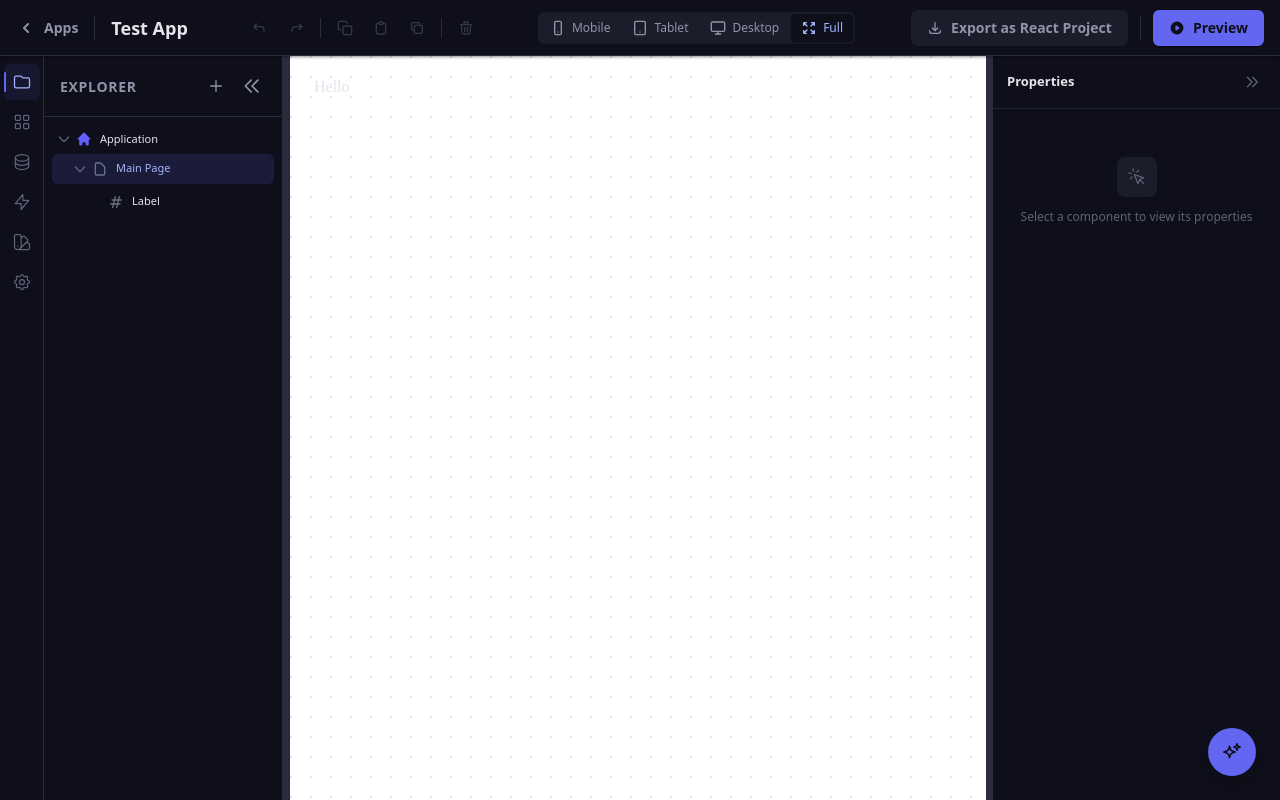
it: Editor › should switch between editor and preview modes
Expected: the heading "Test App" is shown, [111, 14, 188, 42]
Expected: the button named "Components" is shown, [4, 104, 40, 140]
# Switch to preview
What coordinates should you click on to do the following:
click the button "Preview"
I would click on:
 (1208, 28)
Its box is [1153, 10, 1264, 46].
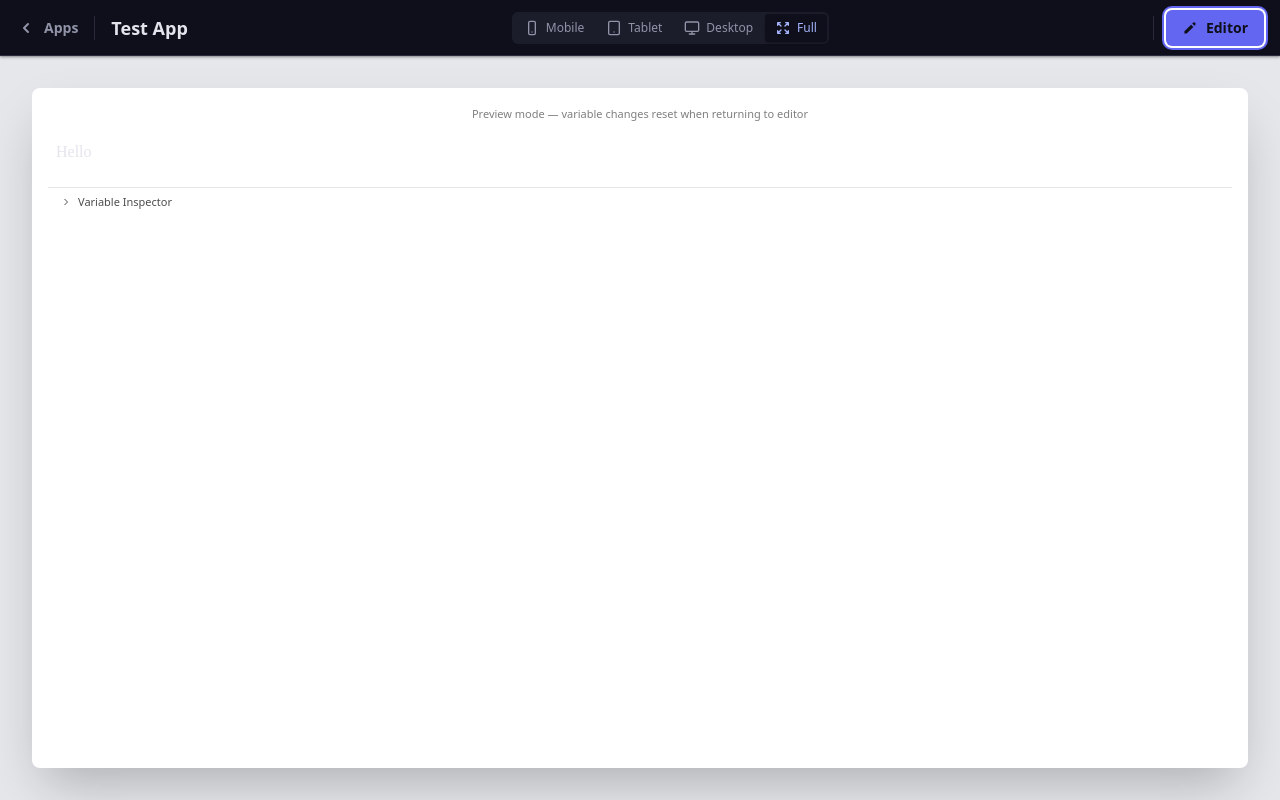
Now the element labelled "Preview" is shown
Now the button "Components" is gone
# Switch back to editor
What coordinates should you click on to do the following:
click the button "Editor"
I would click on:
 (1215, 28)
Its box is [1166, 10, 1264, 46].
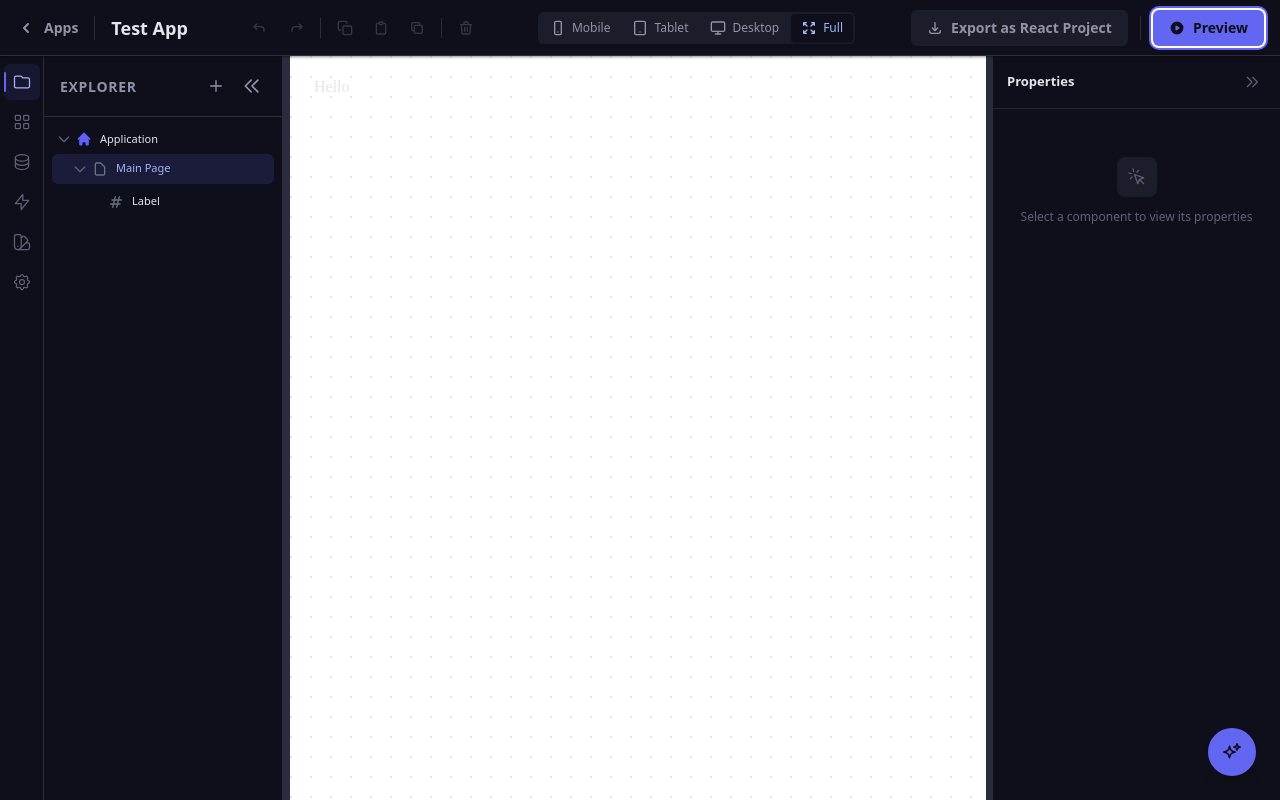
Now the button named "Components" is shown, box [4, 104, 40, 140]
